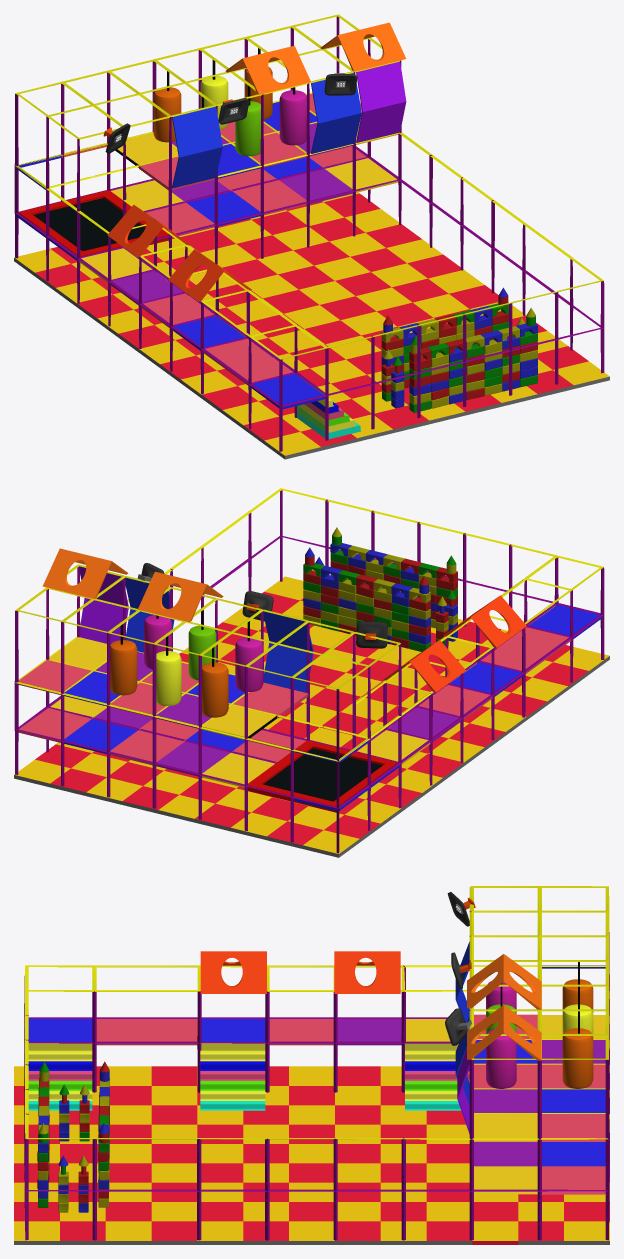
File: 1level.fbx
The picture shows the model from 3 angles, top to bottom: view 1: azimuth 30°, elevation 25°; view 2: azimuth 150°, elevation 25°; view 3: azimuth 270°, elevation 25°; orthographic projection. The views are drawn at different scales.
Visible parts, largest first — view 1: Cube.001, pCube41_lambert5_0, Cube.008; view 2: Cube.001, pCube41_lambert5_0, Cube.008; view 3: Cube.001, pCube41_lambert5_0, Cube.008.
Part boxes in pixels (x1=…): Cube.001: x1=14, y1=14, x2=609, y2=459; pCube41_lambert5_0: x1=381, y1=287, x2=537, y2=412; Cube.008: x1=103, y1=73, x2=356, y2=153; Cube.001: x1=14, y1=488, x2=609, y2=857; pCube41_lambert5_0: x1=303, y1=527, x2=457, y2=651; Cube.008: x1=137, y1=563, x2=387, y2=648; Cube.001: x1=14, y1=886, x2=609, y2=1244; pCube41_lambert5_0: x1=37, y1=1061, x2=109, y2=1212; Cube.008: x1=445, y1=892, x2=475, y2=1045.
Bounding box in the file's own units: 2439 × 1398 × 3475.
Materials: 5 (1 with a texture image).
